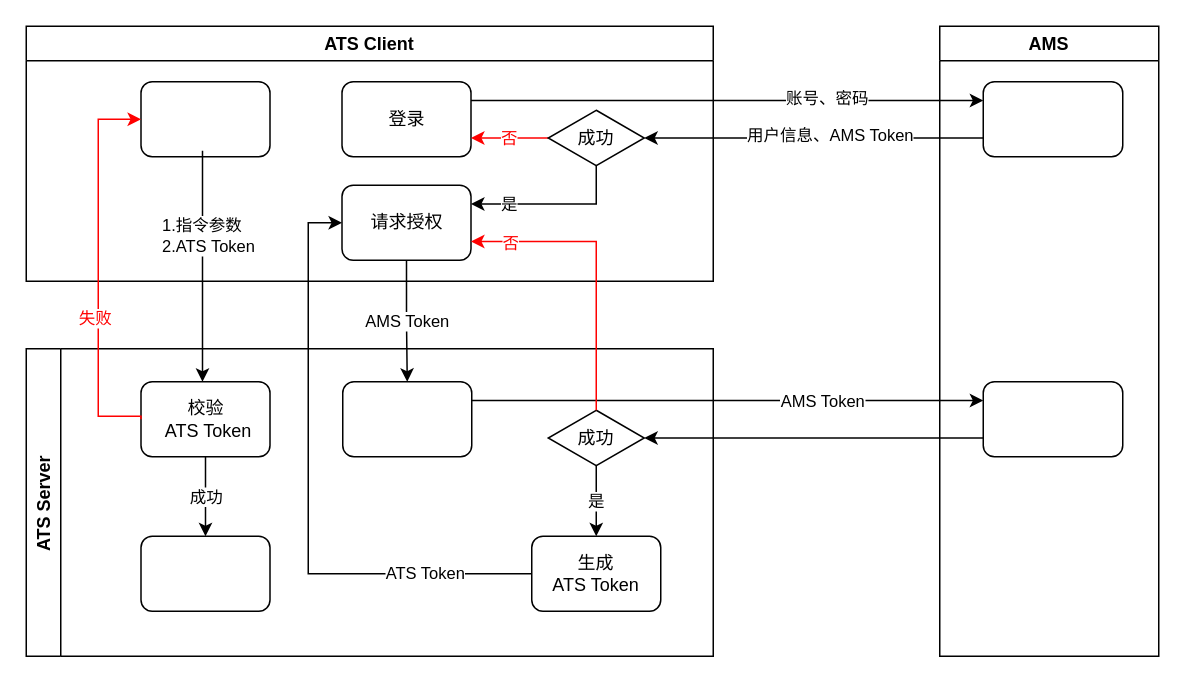
The diagram is 1185 pixels wide and 683 high, and some of its shapes have lost their labels. Here are the shapes that lost their labels. From the top down, the centre of each, then its label:
At pixel 205 118: "请求发令".
At pixel 1052 118: "处理登录".
At pixel 406 418: "校验 AMS Token".
At pixel 1052 418: "校验 Token".
At pixel 205 573: "处理请求".
